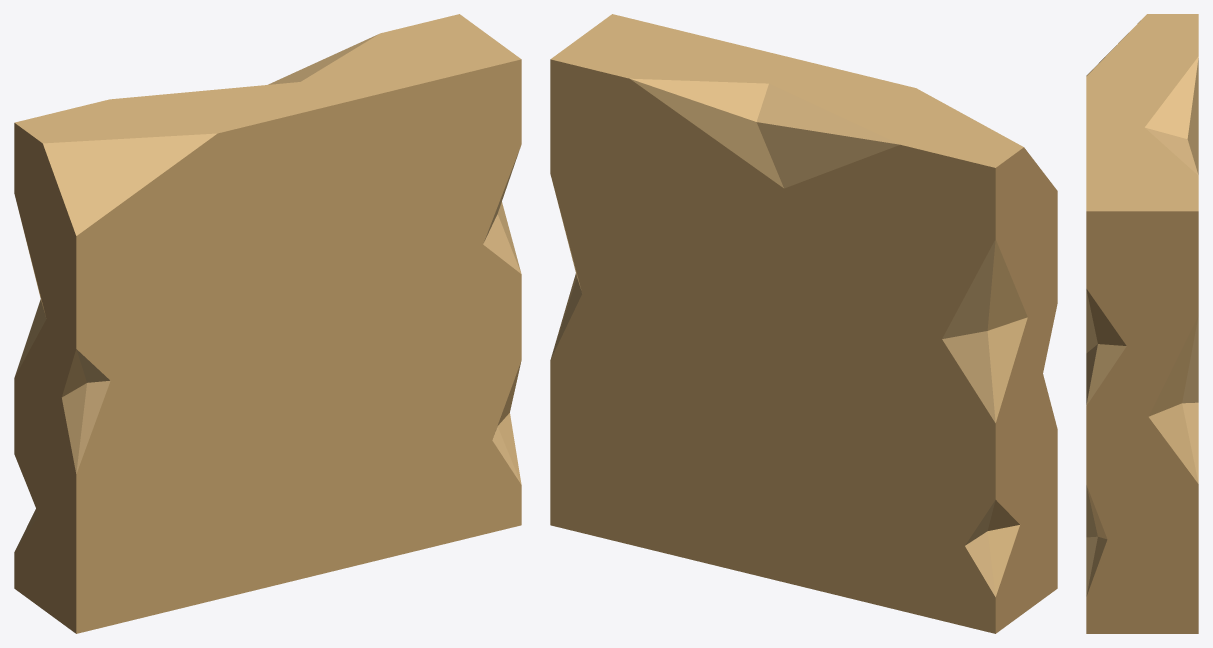
The model's file is ST_Env_Wall_09.fbx.
The picture shows the model from 3 angles, left to right: view 1: azimuth 30°, elevation 25°; view 2: azimuth 150°, elevation 25°; view 3: azimuth 270°, elevation 25°; orthographic projection. The views are drawn at different scales.
Parts seen in each view (by area): view 1: ST_Env_Wall_09; view 2: ST_Env_Wall_09; view 3: ST_Env_Wall_09.
Part boxes in pixels (x1,y1,x2,y2): ST_Env_Wall_09: (14,14,521,633); ST_Env_Wall_09: (550,14,1057,633); ST_Env_Wall_09: (1086,14,1198,633).
Size of the model in its own units: 5 by 5 by 1.2.
